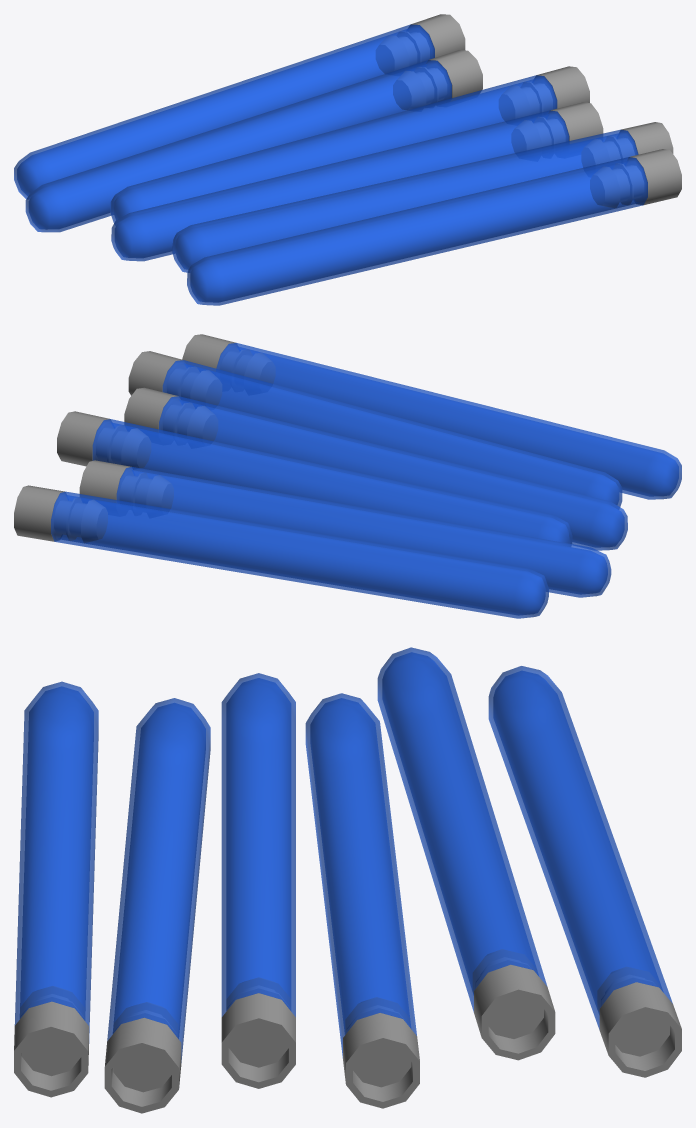
The model's file is SM_Layed_Test_Tube5_LOD0.FBX.
The picture shows the model from 3 angles, top to bottom: view 1: azimuth 30°, elevation 25°; view 2: azimuth 150°, elevation 25°; view 3: azimuth 270°, elevation 25°; orthographic projection. The views are drawn at different scales.
Parts seen in each view (by area): view 1: SM_Empty_Laying_Test_Tube05; view 2: SM_Empty_Laying_Test_Tube05; view 3: SM_Empty_Laying_Test_Tube05.
Part boxes in pixels (box(x1,y1,x2,y2)): SM_Empty_Laying_Test_Tube05: box(14, 14, 681, 305); SM_Empty_Laying_Test_Tube05: box(14, 334, 681, 618); SM_Empty_Laying_Test_Tube05: box(14, 647, 681, 1113).
Bounding box in the file's own units: 0.1972 × 0.016 × 0.1369.
